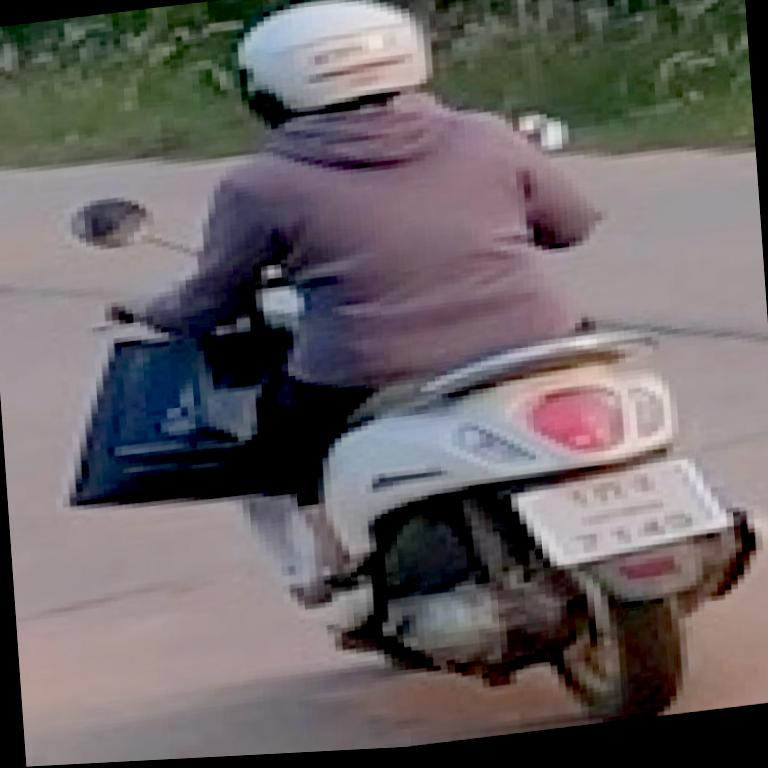license plate: (509, 451, 736, 583)
